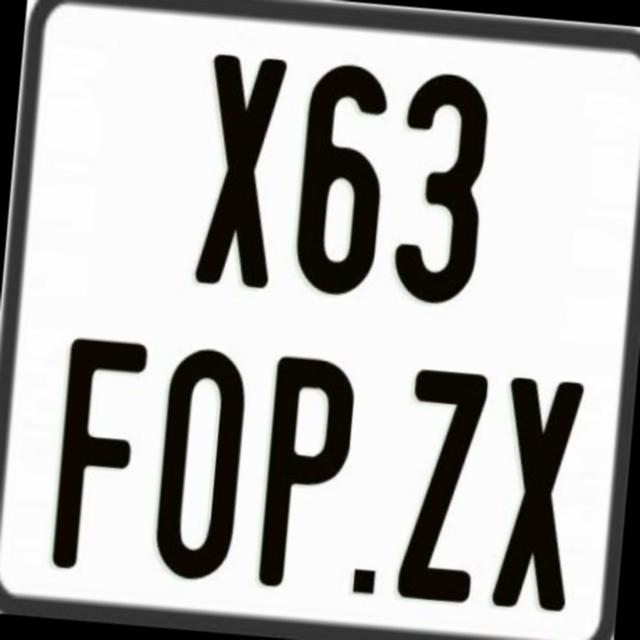0: (147, 342, 245, 584)
3: (391, 70, 491, 312)
6: (291, 62, 398, 306)
F: (51, 332, 157, 570)
P: (256, 354, 361, 594)
X: (486, 375, 581, 618), (190, 54, 288, 288)
Z: (396, 366, 492, 604)
